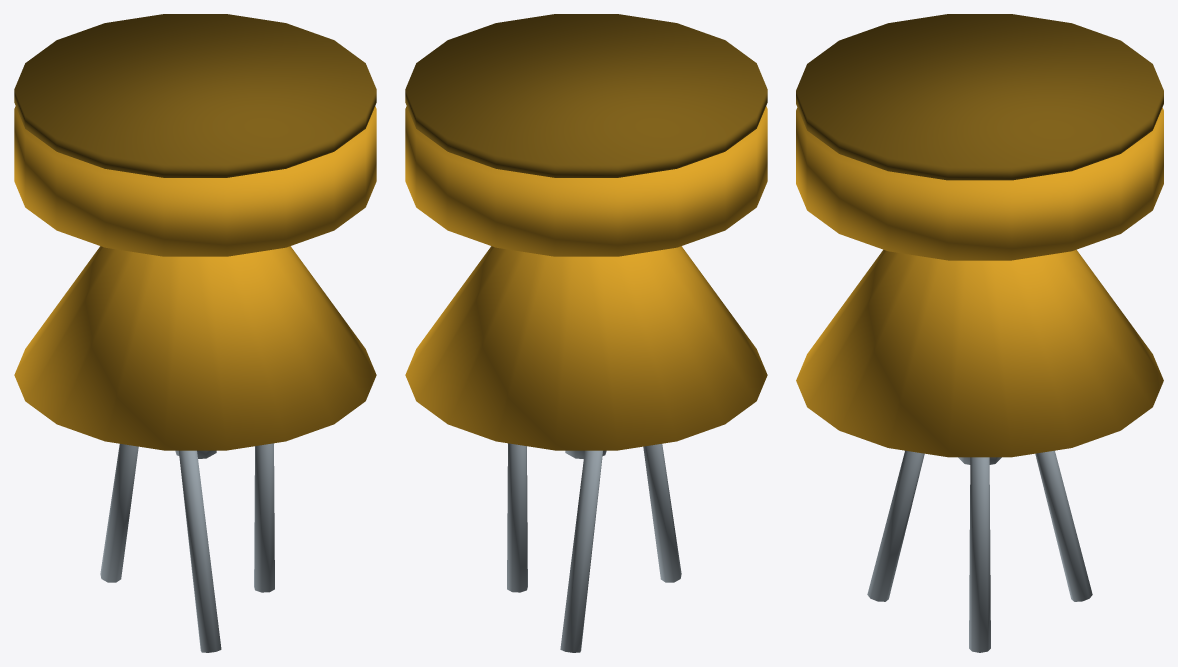
The model's file is feeder.glb.
The picture shows the model from 3 angles, left to right: view 1: azimuth 30°, elevation 25°; view 2: azimuth 150°, elevation 25°; view 3: azimuth 270°, elevation 25°; orthographic projection.
Visible parts, largest first — view 1: Hopper, Body; view 2: Hopper, Body; view 3: Hopper, Body.
Part boxes in pixels (x1,y1,x2,y2): Hopper: (14, 14, 376, 458); Body: (100, 443, 274, 652); Hopper: (405, 14, 767, 458); Body: (507, 443, 681, 652); Hopper: (796, 14, 1163, 464); Body: (867, 450, 1092, 652).
Size of the model in its own units: 0.9848 by 1.58 by 1.
